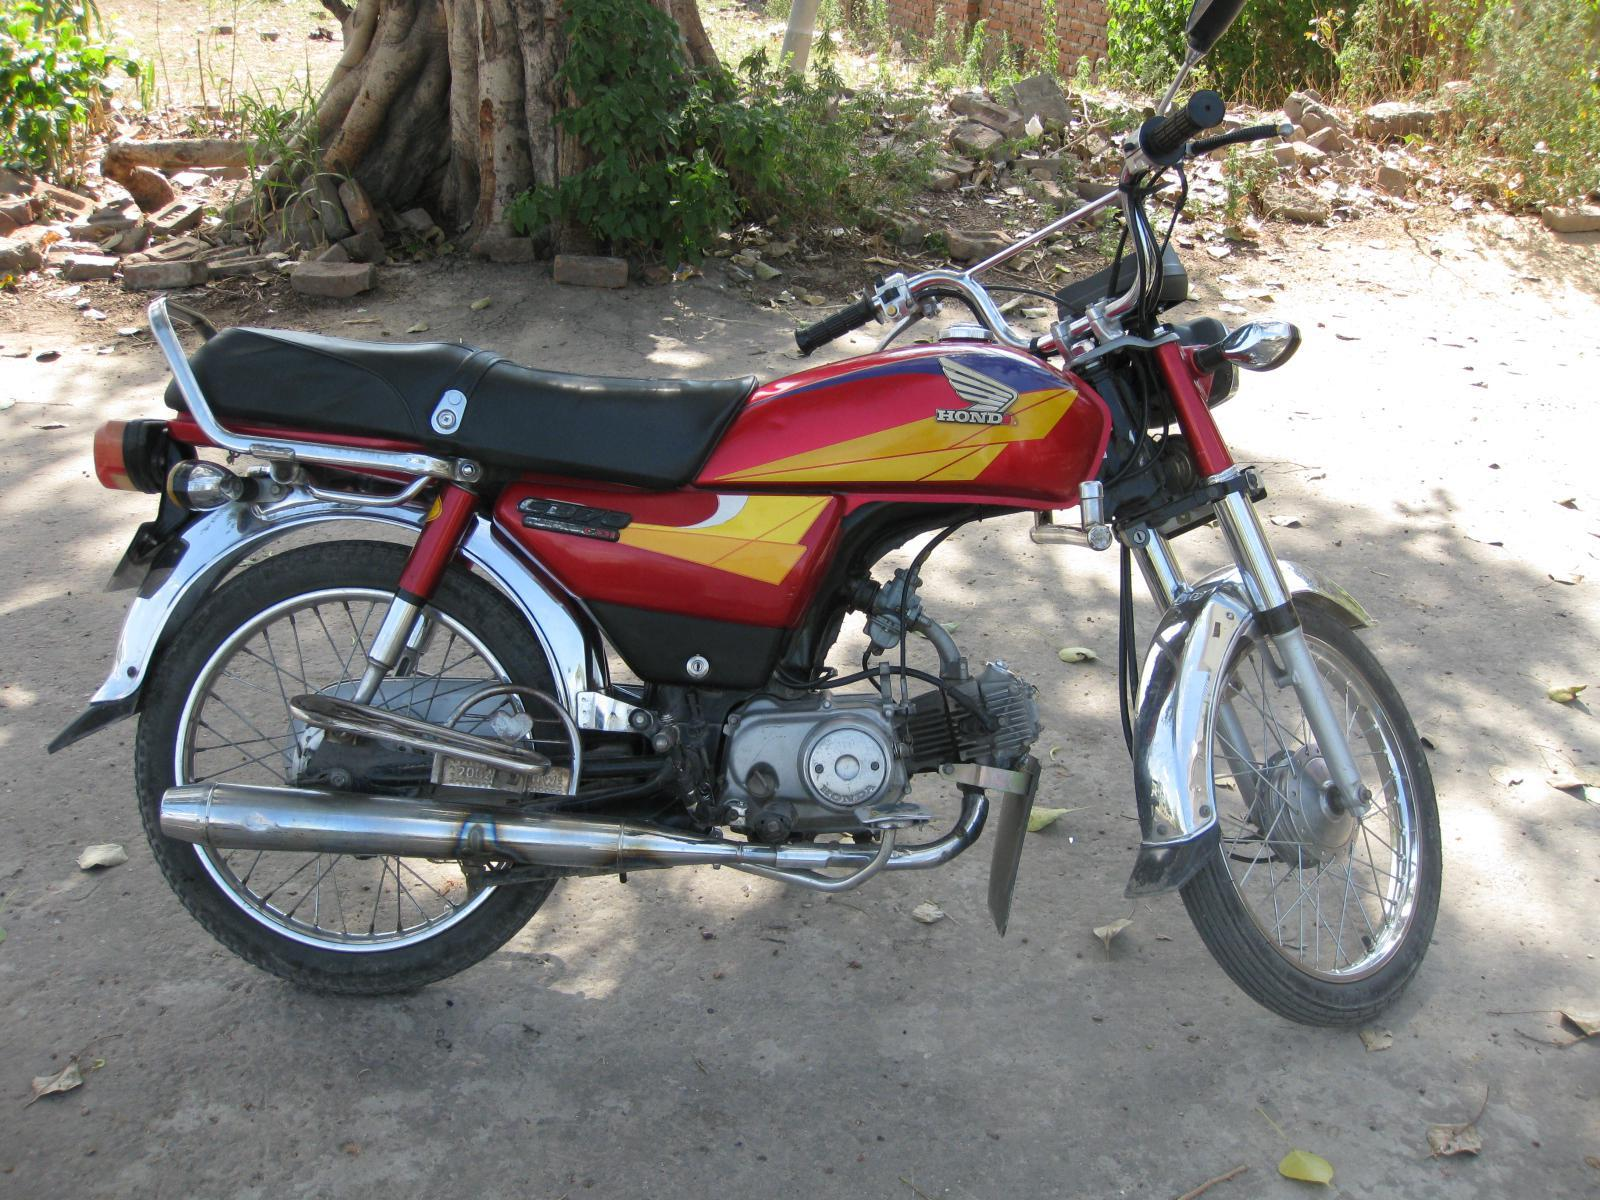bike: (78, 1, 1446, 1026)
